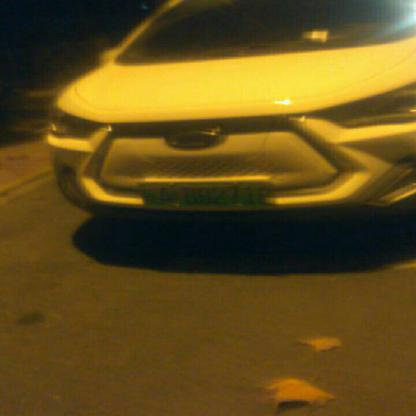lp: (138, 184, 268, 206)
